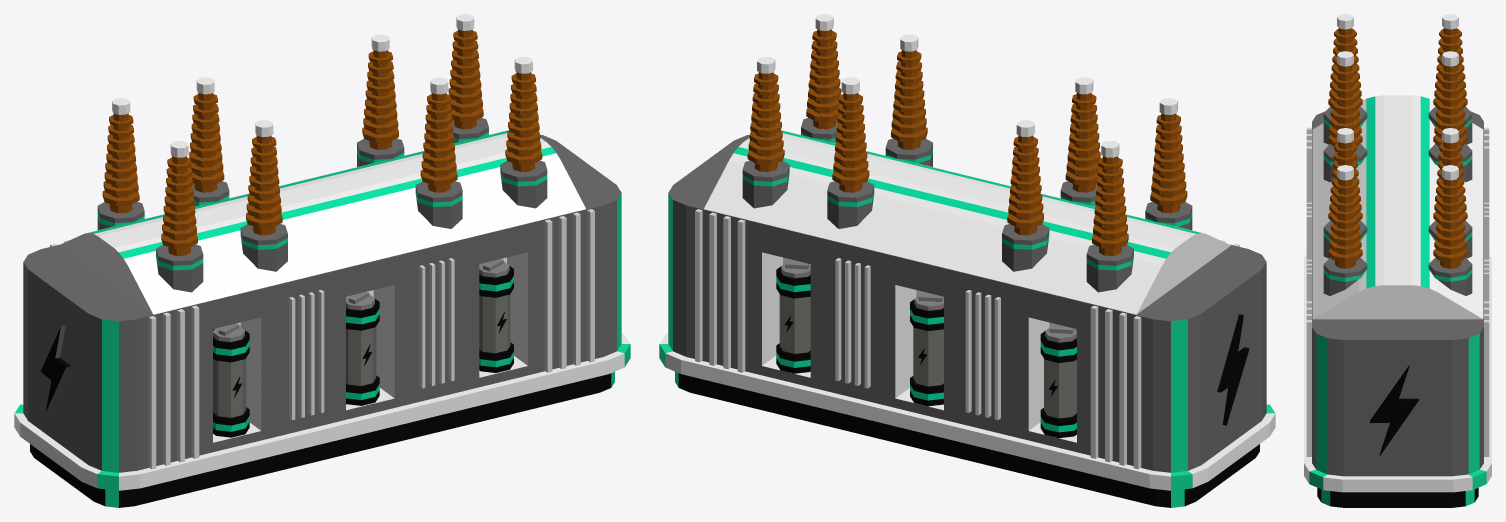
File: Energy.fbx
The picture shows the model from 3 angles, left to right: view 1: azimuth 30°, elevation 25°; view 2: azimuth 150°, elevation 25°; view 3: azimuth 270°, elevation 25°; orthographic projection. The views are drawn at different scales.
Parts seen in each view (by area): view 1: Battery; view 2: Battery; view 3: Battery.
Part boxes in pixels (bbox=[...]): Battery: bbox=[14, 14, 630, 507]; Battery: bbox=[659, 14, 1275, 507]; Battery: bbox=[1304, 14, 1491, 507].
Bounding box in the file's own units: 600 × 200 × 354.
